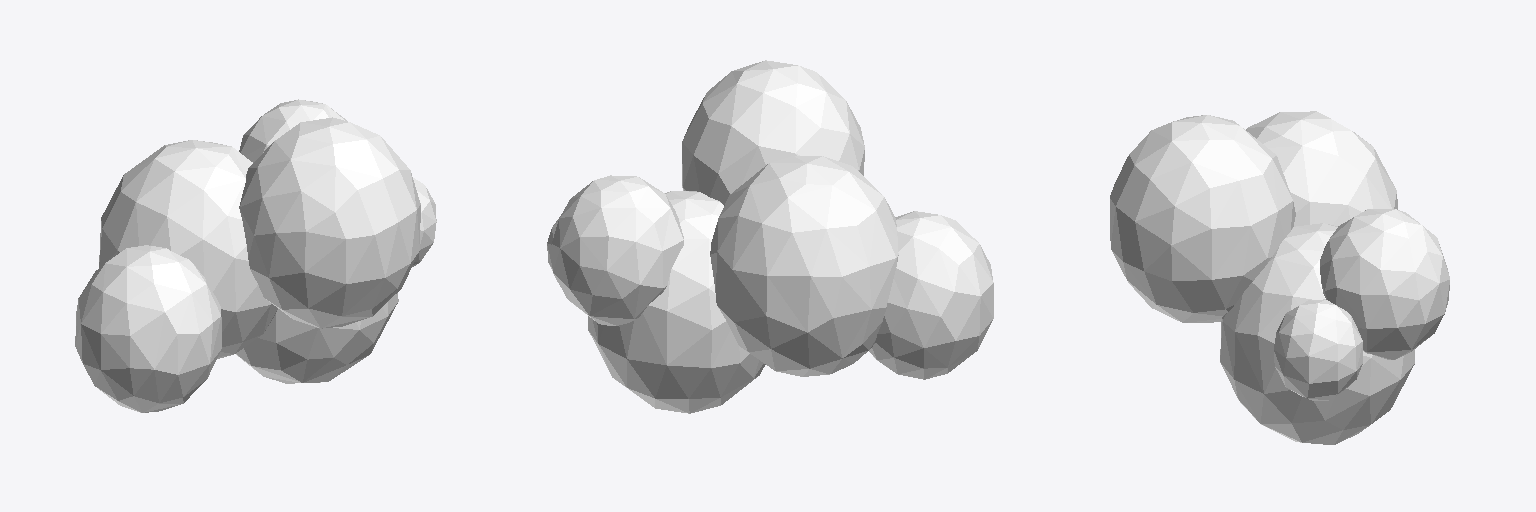
The model's file is cloud.obj.
3 views of the same model, side by side, from view 1: azimuth 30°, elevation 25°; view 2: azimuth 150°, elevation 25°; view 3: azimuth 270°, elevation 25° (orthographic).
Visible parts, largest first — view 1: Sphere.003; view 2: Sphere.003; view 3: Sphere.003.
Part boxes in pixels (x1,y1,x2,y2): Sphere.003: (75, 99, 436, 412); Sphere.003: (547, 60, 993, 413); Sphere.003: (1110, 111, 1449, 444).
Size of the model in its own units: 3.78 by 2.79 by 2.88.